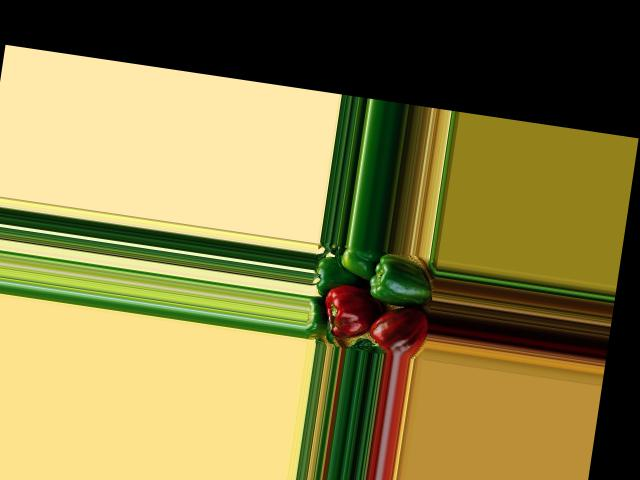bell_pepper: (367, 304, 430, 358)
